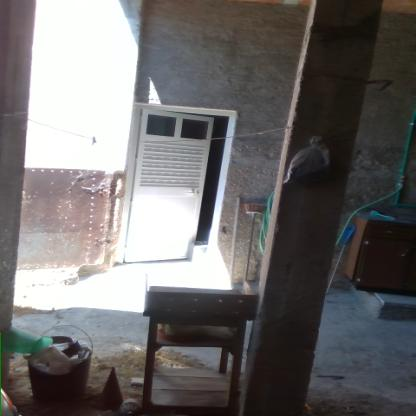semi: (114, 92, 242, 274)
